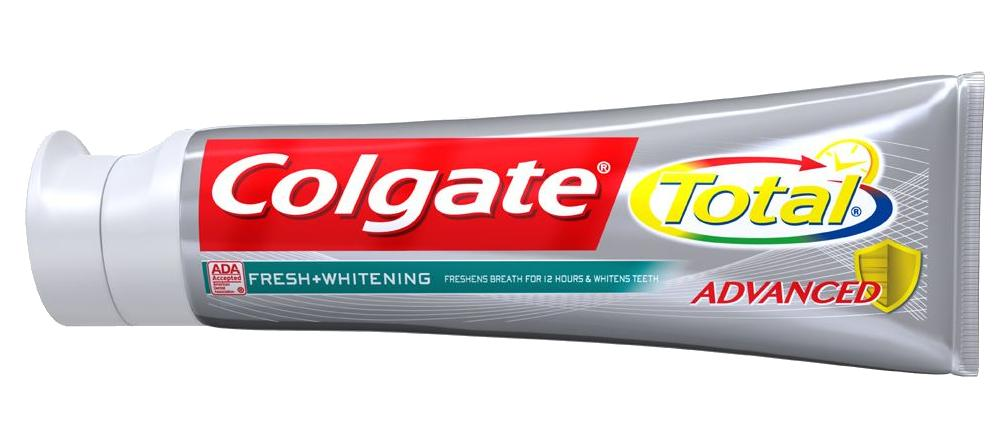toothpaste: (7, 68, 993, 383)
